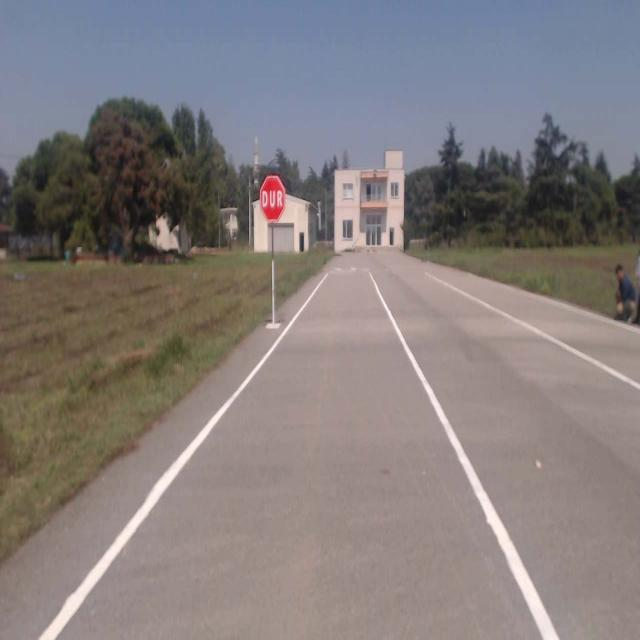dur: (260, 175, 284, 221)
